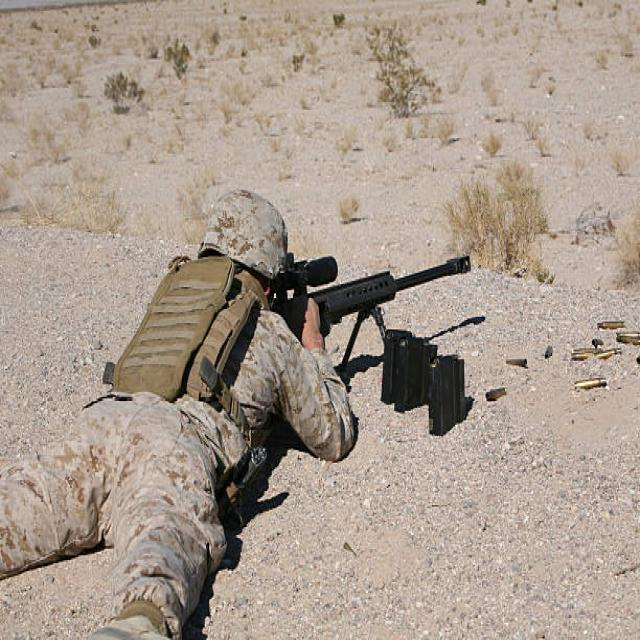soldier: (1, 181, 477, 639)
